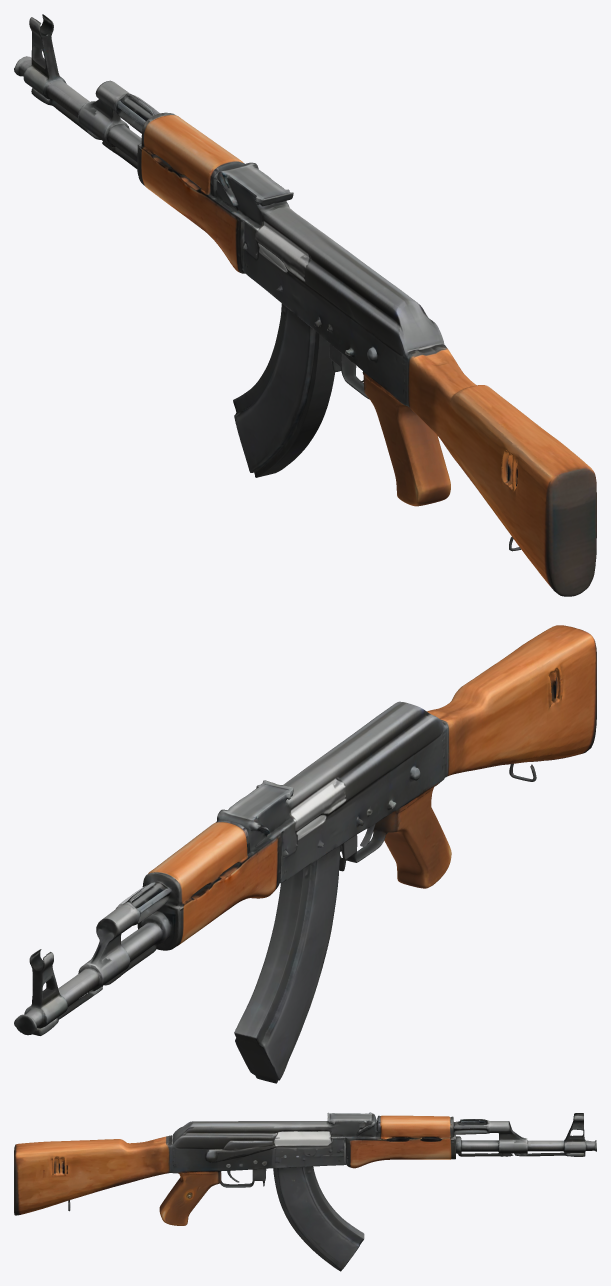
The picture shows the model from 3 angles, top to bottom: view 1: azimuth 30°, elevation 25°; view 2: azimuth 150°, elevation 25°; view 3: azimuth 270°, elevation 25°; orthographic projection. The views are drawn at different scales.
Parts seen in each view (by area): view 1: tripo_node_ecf4e286-8f2d-403f-a94b-b9477b29ff50; view 2: tripo_node_ecf4e286-8f2d-403f-a94b-b9477b29ff50; view 3: tripo_node_ecf4e286-8f2d-403f-a94b-b9477b29ff50.
Boxes of the visible parts, <box> form: tripo_node_ecf4e286-8f2d-403f-a94b-b9477b29ff50: <box>14,14,596,596</box>; tripo_node_ecf4e286-8f2d-403f-a94b-b9477b29ff50: <box>14,625,596,1083</box>; tripo_node_ecf4e286-8f2d-403f-a94b-b9477b29ff50: <box>14,1112,596,1271</box>.
Size of the model in its own units: 0.0528 by 0.2931 by 0.9986.
1 material, 1 textured.
